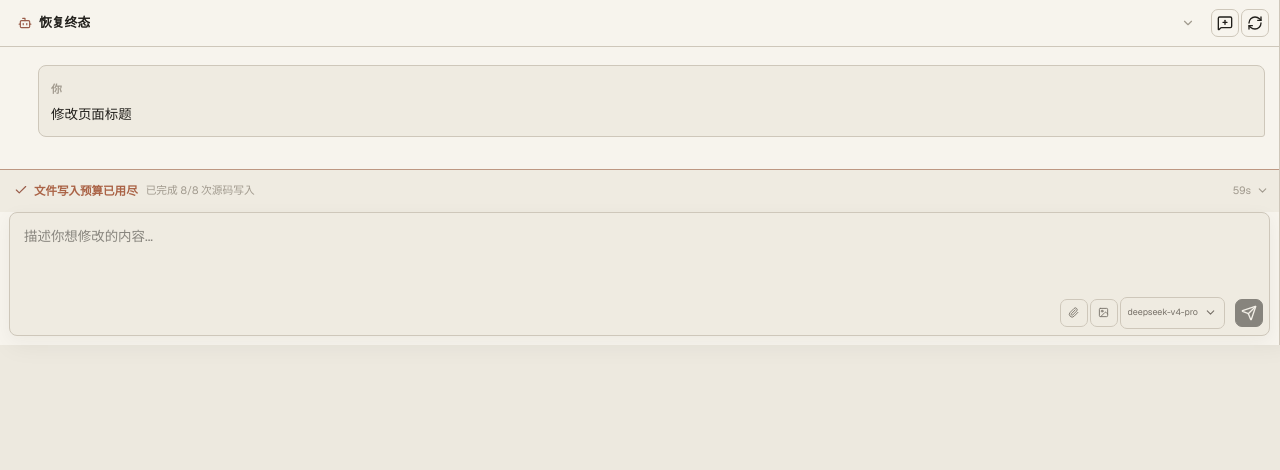
Test: AgentPanel › 文件写入预算耗尽时不再误报为模型轮次上限
The image size is (1280, 470).
Expected: the text "文件写入预算已用尽" is shown, [14, 182, 138, 199]
Expected: the text with class "agent-run-status-summary-detail" reads "已完成 8/8 次源码写入", [146, 184, 255, 198]
Click the heading named "展开或收起运行详情" at (86, 190), box [14, 183, 1269, 198]
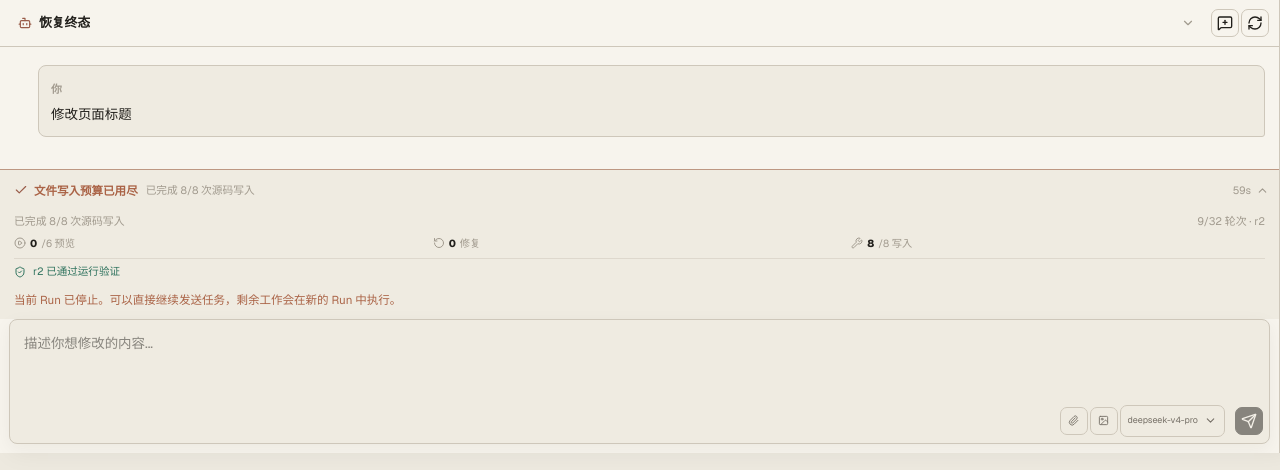
Expected: the text "9/32 轮次 · r2" is shown, [1197, 212, 1265, 229]
